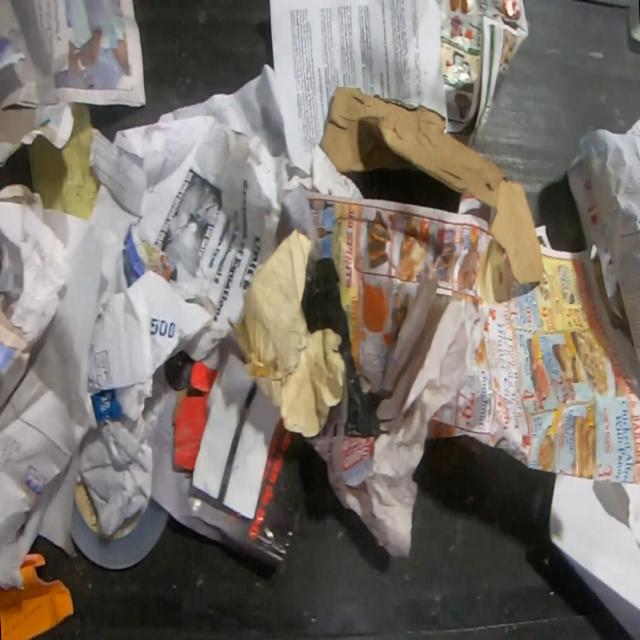cardboard: (320, 84, 544, 284)
rigid_plastic: (70, 480, 170, 569)
